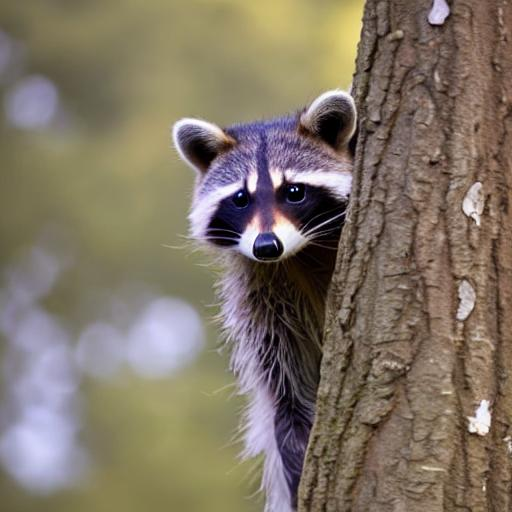raccoon: (167, 84, 363, 419)
